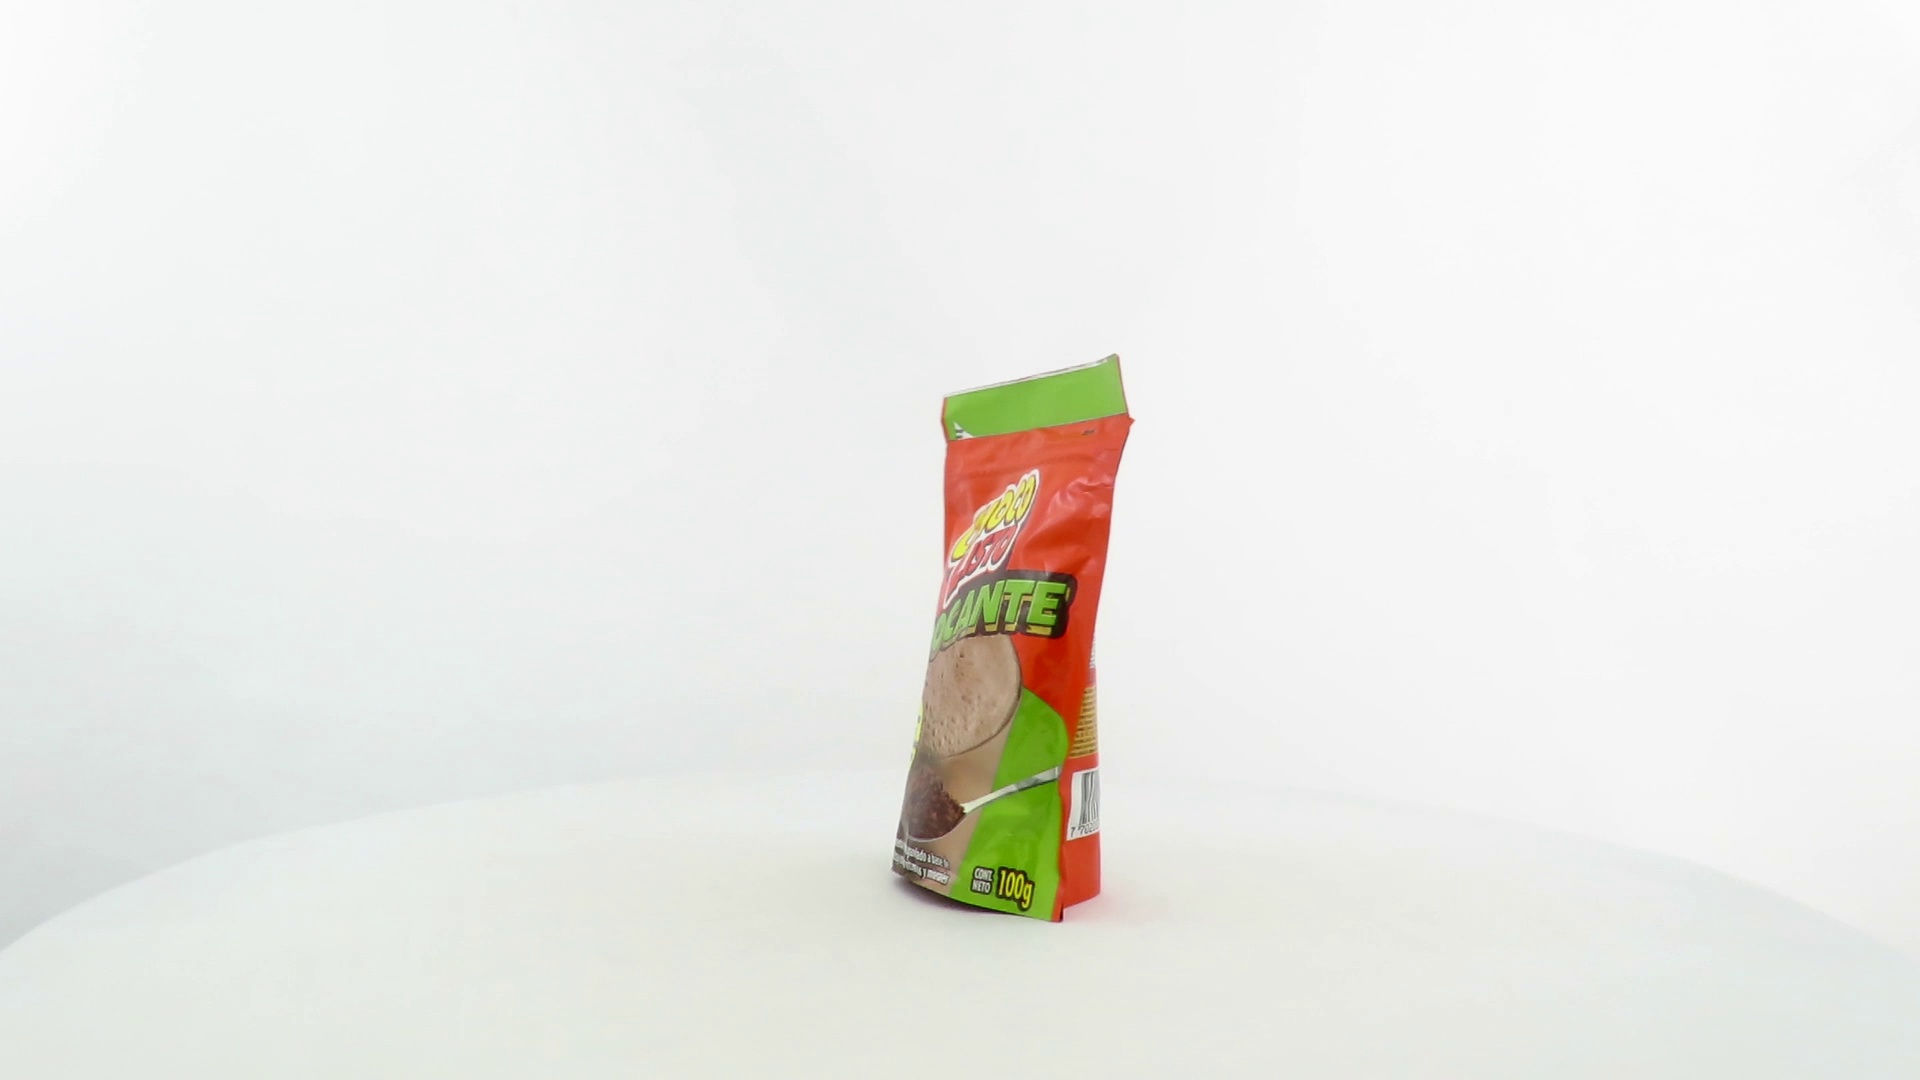COL0170102DYP10000: (886, 348, 1141, 928)
